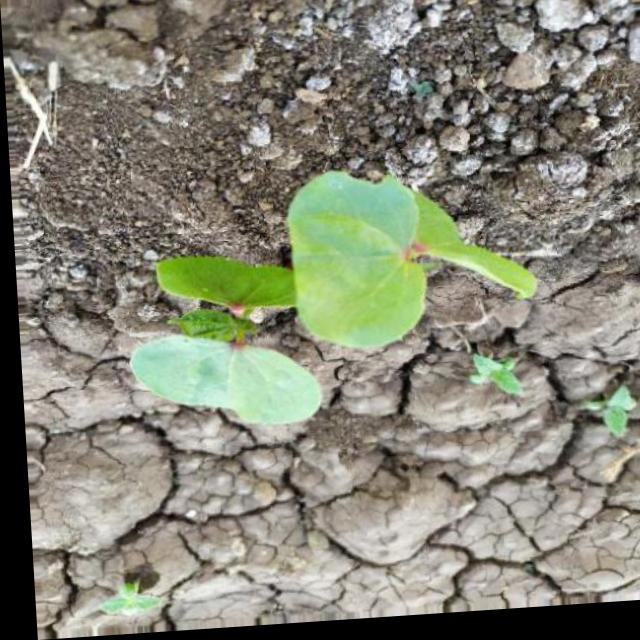weed: (105, 161, 555, 452)
